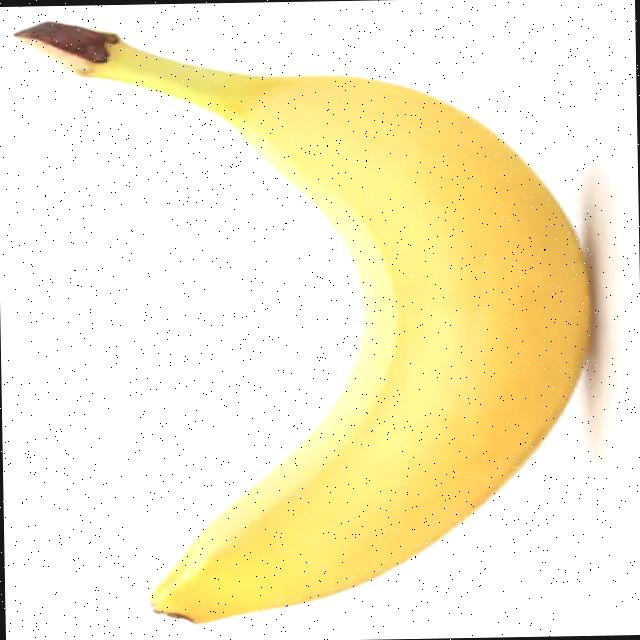banana: (9, 9, 600, 628)
